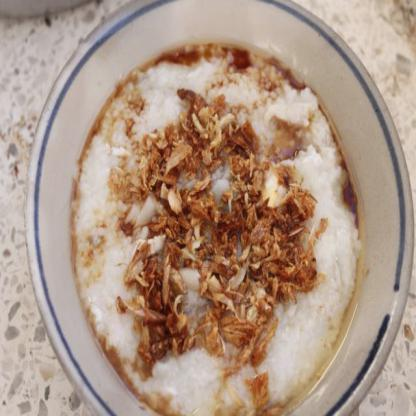Joke: (75, 44, 374, 410)
